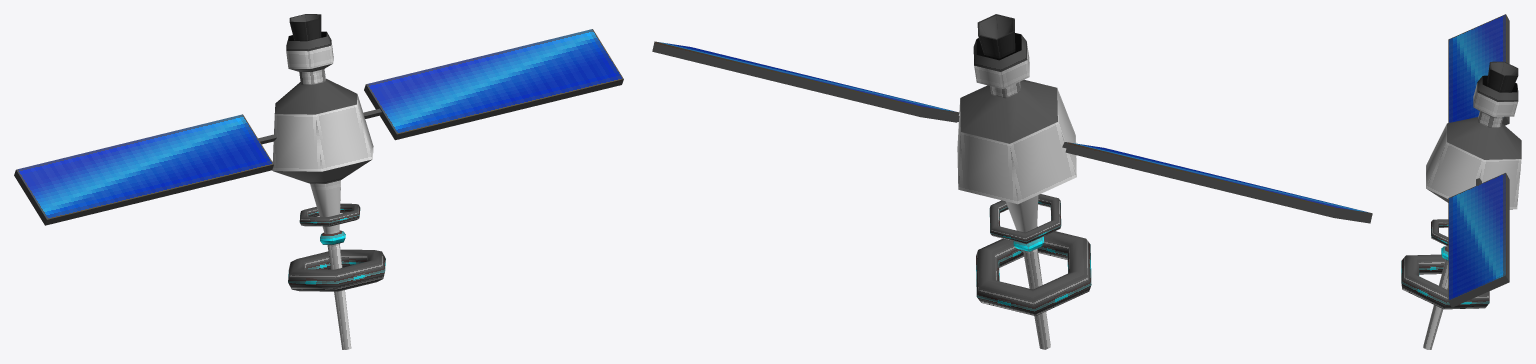
The model's file is satellite.FBX.
3 renders of one model, left to right at view 1: azimuth 30°, elevation 25°; view 2: azimuth 150°, elevation 25°; view 3: azimuth 270°, elevation 25°, orthographic. The views are drawn at different scales.
Visible parts, largest first — view 1: satellite; view 2: satellite; view 3: satellite.
Part boxes in pixels (x1,y1,x2,y2): satellite: (14,14,623,349); satellite: (652,14,1372,349); satellite: (1401,14,1521,349).
Bounding box in the file's own units: 583 × 295 × 113.
